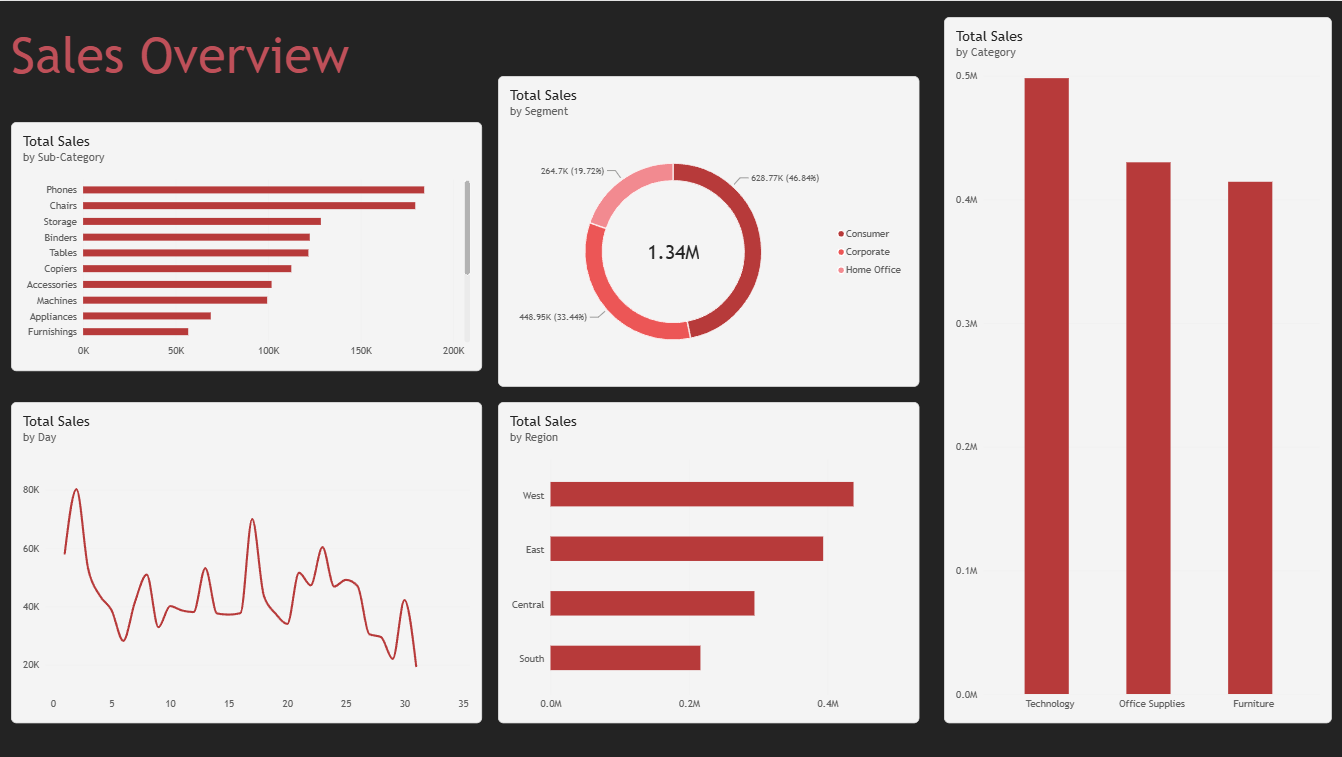

Layout of this report page (visuals, bound fields, positions):
{"tool":"powerbi","page":{"name":"Sales Overview","canvas":[1920,1080],"ordinal":0},"visuals":[{"type":"lineChart","fields":{"Category":["Table1.Order Date.Variation.Date Hierarchy.Day"],"Y":["Table1.Total Sales"]},"box":[0,573.2,672.8,459.3],"z":0},{"type":"clusteredBarChart","fields":{"Category":["Table1.Sub-Category"],"Y":["Table1.Total Sales"]},"box":[0,195.4,672.8,355.8],"z":1000},{"type":"barChart","fields":{"Category":["Table1.Region"],"Y":["Table1.Total Sales"]},"box":[714.2,573.2,601.6,459.3],"z":2000},{"type":"donutChart","fields":{"Category":["Table1.Segment"],"Y":["Table1.Total Sales"]},"box":[714.2,107.4,601.6,443.8],"z":3000},{"type":"clusteredColumnChart","fields":{"Category":["Table1.Category"],"Y":["Table1.Total Sales"]},"box":[1350.7,23.3,553.7,1009.2],"z":3001},{"type":"textbox","box":[18.1,34.9,672.8,125.5],"z":3002}]}

Visuals, with their boxes in screenshot pixels (x1, y1, x2, y2), scaled from the page's 1920x1080 canvas onto the 1342x757 screenshot:
lineChart - Table1.Order Date.Variation.Date Hierarchy.Day x Table1.Total Sales: bbox(0, 402, 470, 724)
clusteredBarChart - Table1.Sub-Category x Table1.Total Sales: bbox(0, 137, 470, 386)
barChart - Table1.Region x Table1.Total Sales: bbox(499, 402, 920, 724)
donutChart - Table1.Segment x Table1.Total Sales: bbox(499, 75, 920, 386)
clusteredColumnChart - Table1.Category x Table1.Total Sales: bbox(944, 16, 1331, 724)
textbox: bbox(13, 24, 483, 112)
